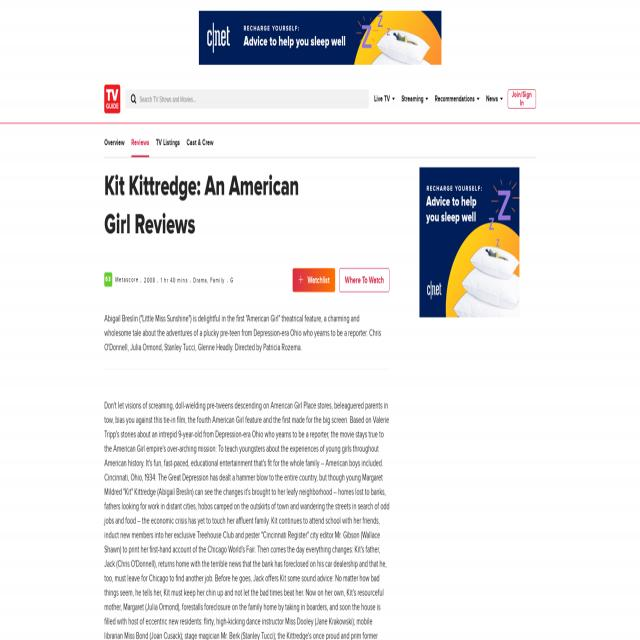button: (338, 268, 389, 292), (292, 267, 335, 293), (508, 90, 536, 108), (104, 85, 120, 114), (131, 94, 136, 104)
field: (125, 90, 368, 108)
